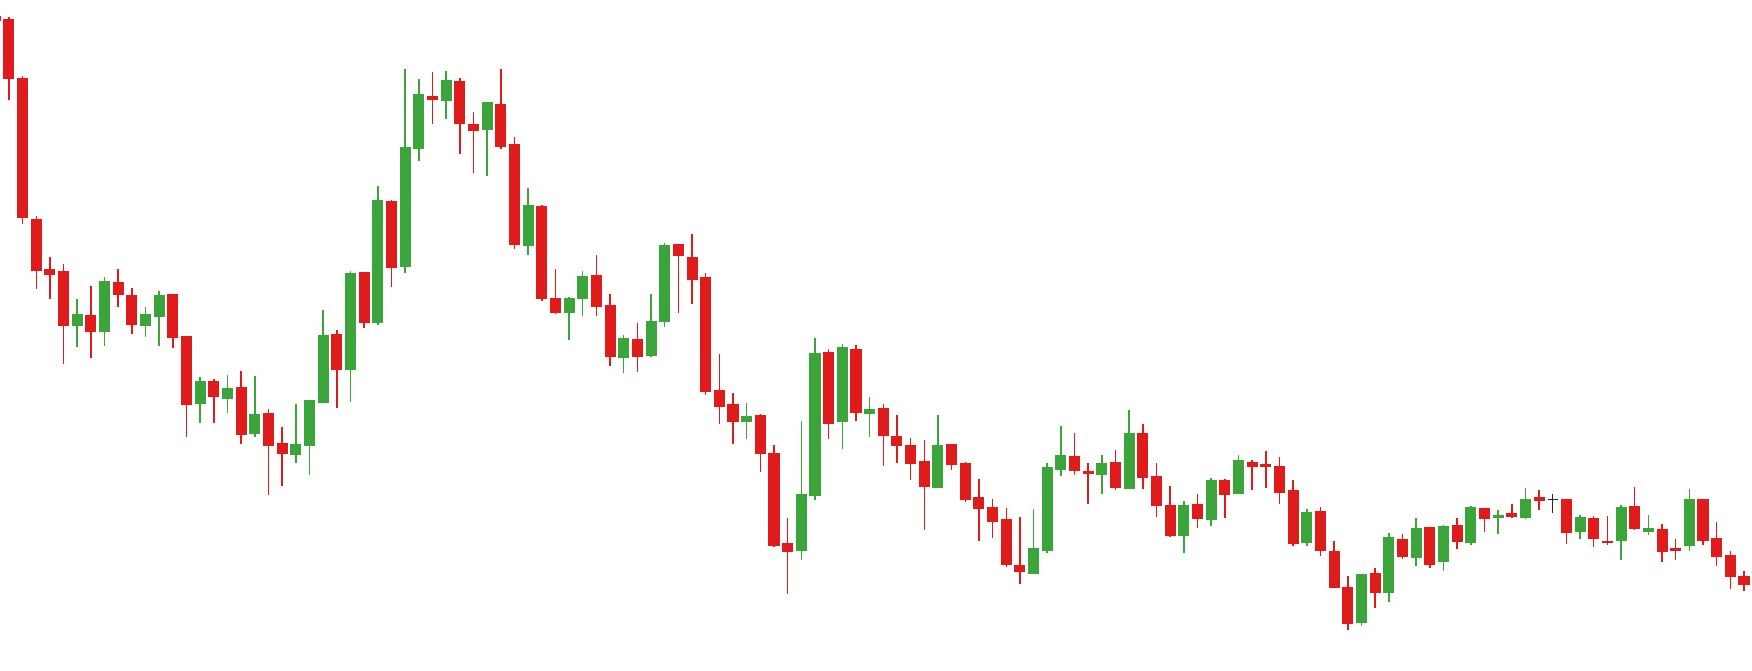sell: (588, 230, 702, 328), (1050, 410, 1151, 495)
